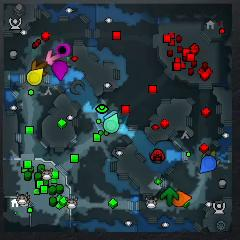p1: (200, 156, 216, 173)
p2: (103, 113, 119, 133)
p3: (51, 60, 68, 81)
p3Clone: (57, 44, 70, 57)
p4: (27, 68, 44, 86)
p5: (173, 190, 191, 206)
x1: (46, 49, 60, 65)
x2: (203, 151, 220, 165)
x3: (104, 110, 122, 123)
x4: (161, 187, 178, 207)
x5: (31, 60, 48, 77)
